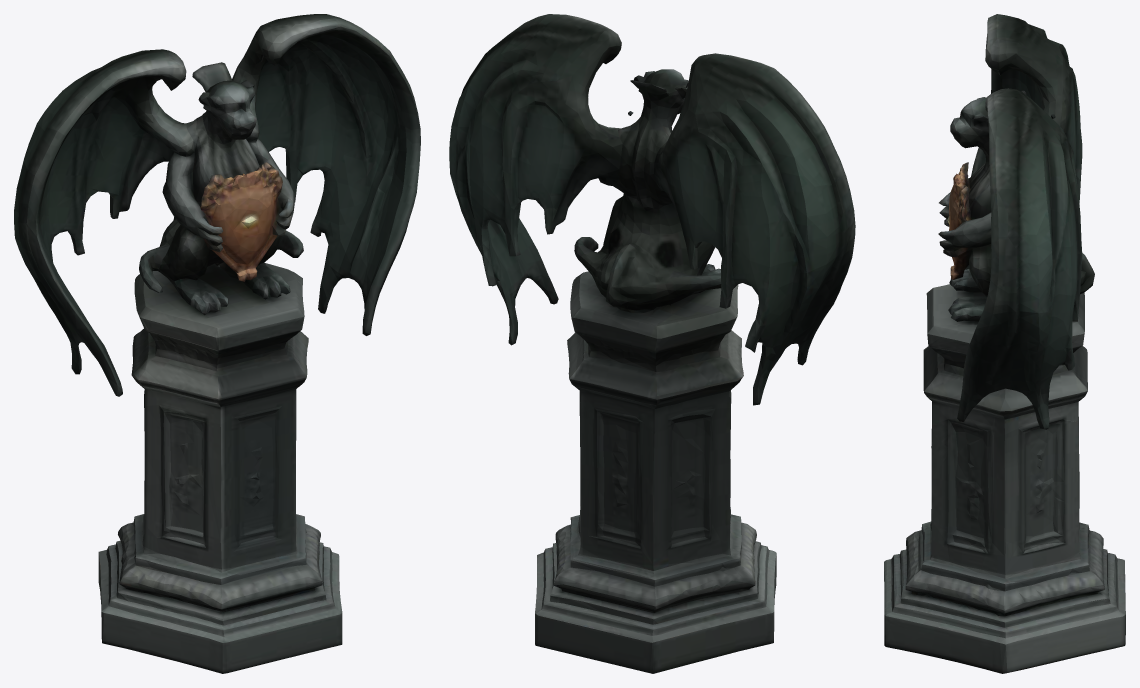
File: stair_statue.glb
The picture shows the model from 3 angles, left to right: view 1: azimuth 30°, elevation 25°; view 2: azimuth 150°, elevation 25°; view 3: azimuth 270°, elevation 25°; orthographic projection. The views are drawn at different scales.
Visible parts, largest first — view 1: geometry_0; view 2: geometry_0; view 3: geometry_0.
Part boxes in pixels (<box>): geometry_0: <box>14,14,420,673</box>; geometry_0: <box>449,14,855,673</box>; geometry_0: <box>884,14,1125,673</box>.
Bounding box in the file's own units: 0.7145 × 1 × 0.3948.
Materials: 1 (1 with a texture image).
